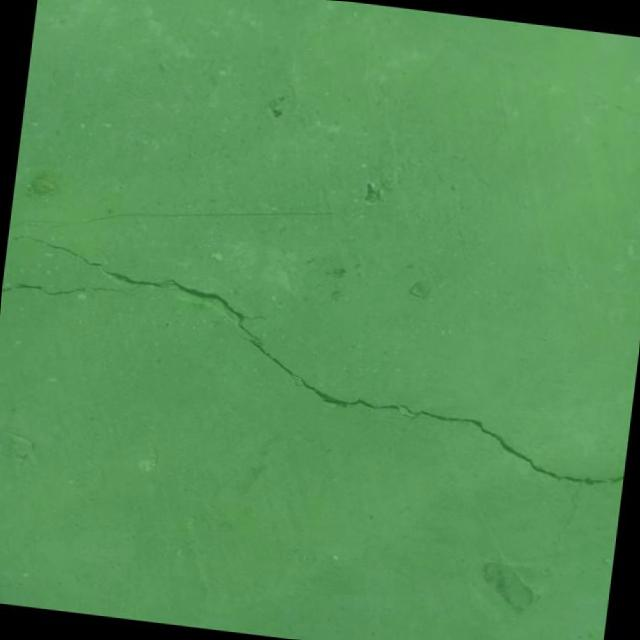crack: (0, 233, 640, 550), (1, 275, 138, 310)
